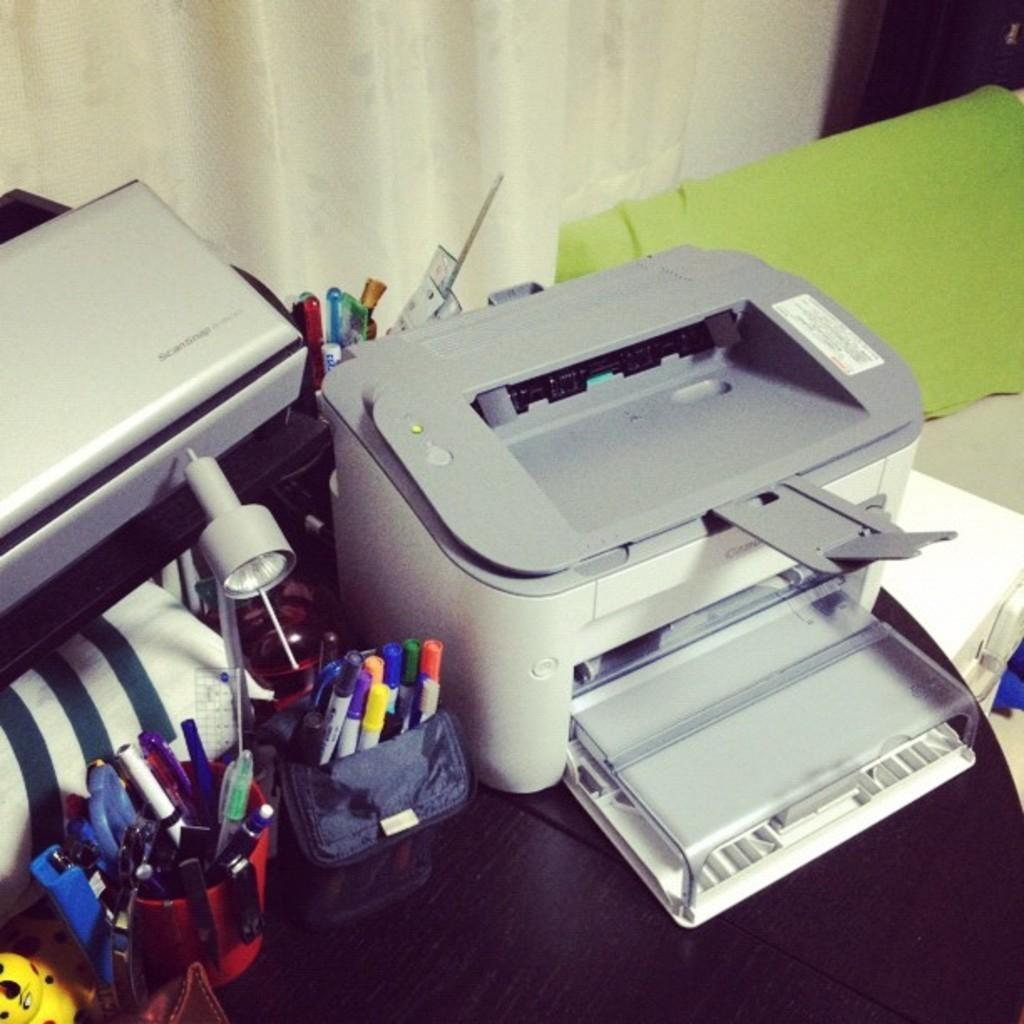Printer: (318, 245, 978, 930)
